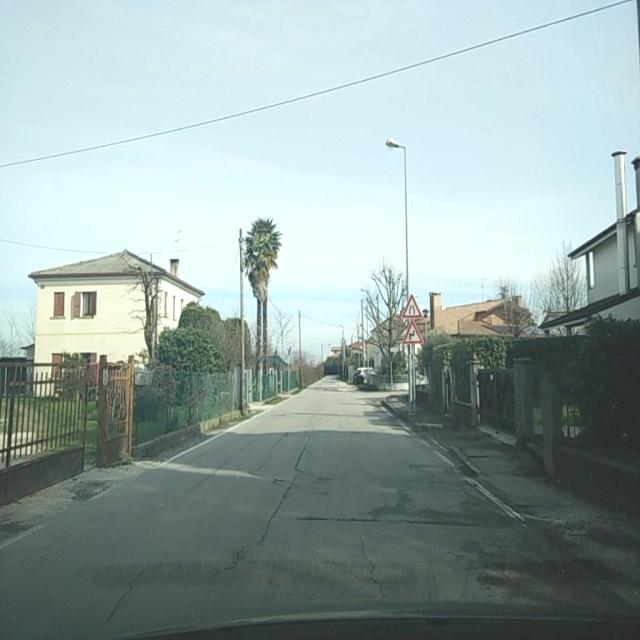car: (352, 366, 378, 387)
